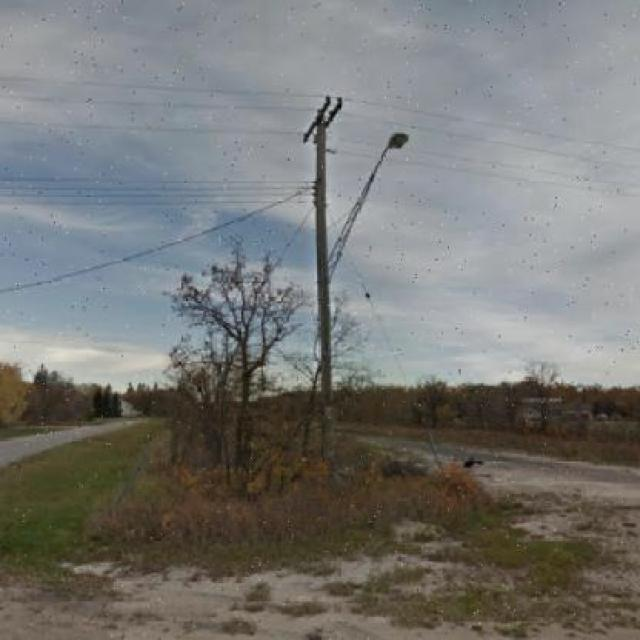crossarm: (303, 95, 343, 145)
pole: (312, 108, 335, 477)
wire: (2, 76, 638, 156), (0, 175, 321, 296)
